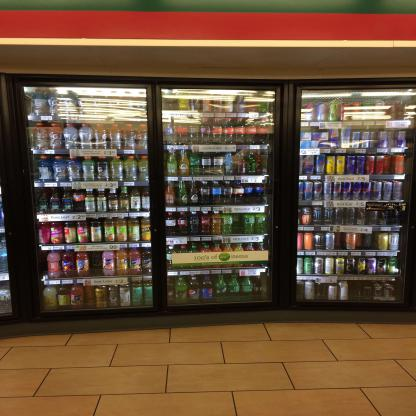Void: (90, 252, 102, 277), (361, 235, 378, 251)
